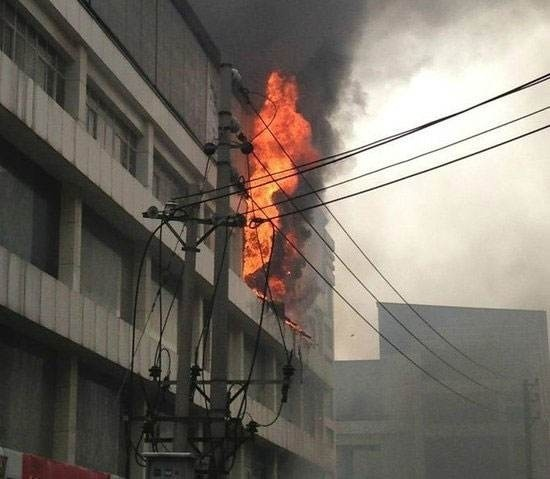fire: (231, 74, 307, 282)
